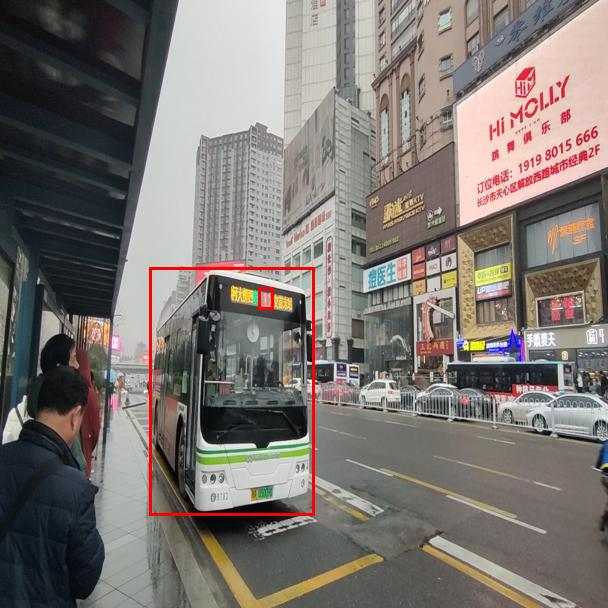bus: (149, 267, 314, 515)
screen: (258, 287, 273, 309)
